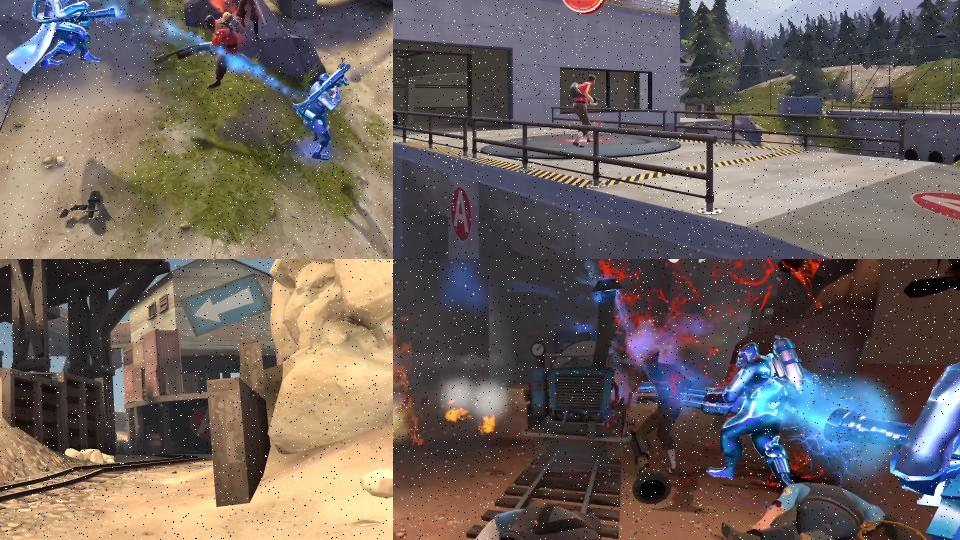Enemy: (681, 333, 820, 489), (720, 471, 927, 540), (613, 346, 692, 475), (151, 10, 260, 90), (4, 0, 120, 75), (289, 59, 356, 164), (570, 75, 601, 148), (219, 0, 272, 40)
